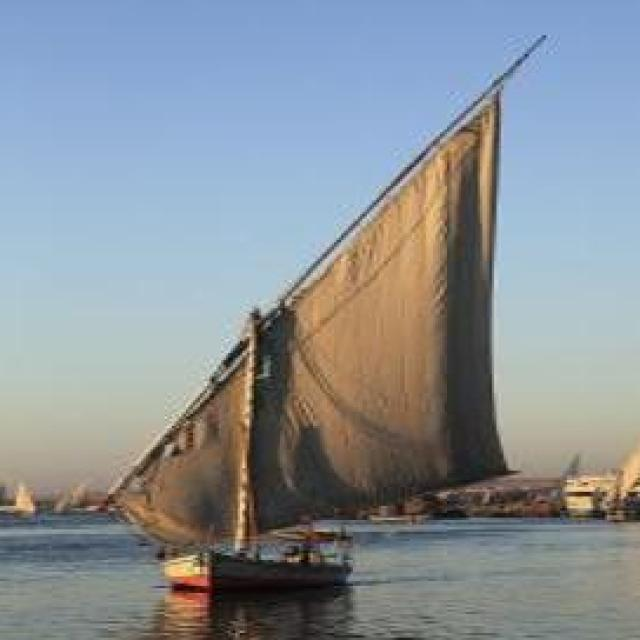sailboat: (126, 20, 543, 599)
